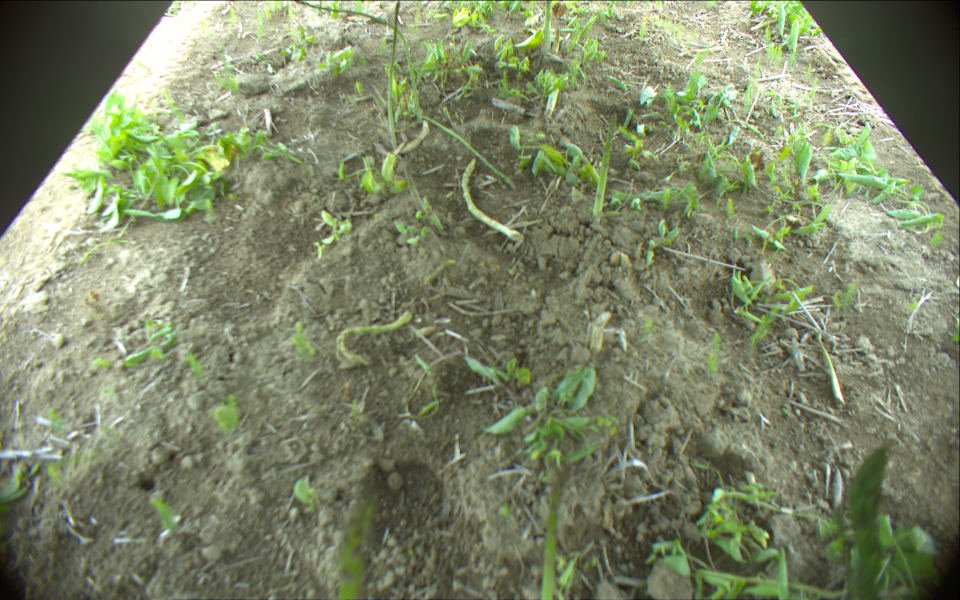aspa: (289, 1, 421, 121), (421, 117, 518, 188), (851, 441, 890, 600), (332, 490, 378, 600), (460, 158, 520, 240), (336, 311, 413, 368), (536, 465, 568, 600), (591, 111, 619, 216), (387, 1, 403, 150), (541, 1, 552, 50)
